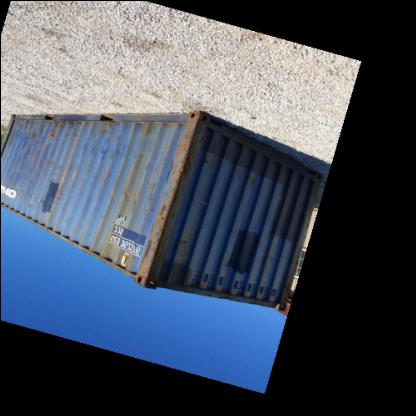Damage: (166, 130, 192, 198), (143, 202, 167, 275), (1, 187, 58, 211), (14, 115, 64, 142), (86, 148, 127, 166), (72, 173, 108, 190), (27, 158, 64, 173), (97, 117, 115, 141), (173, 235, 190, 253), (120, 187, 132, 204)
